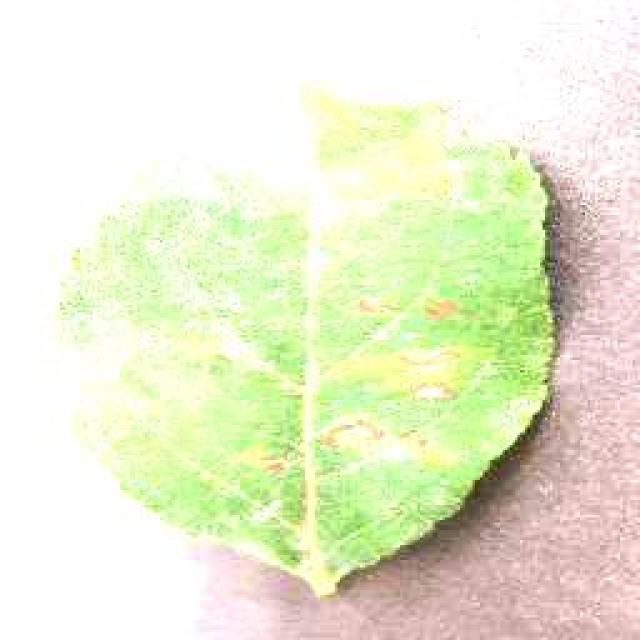apple rust disease: (55, 82, 560, 598)
